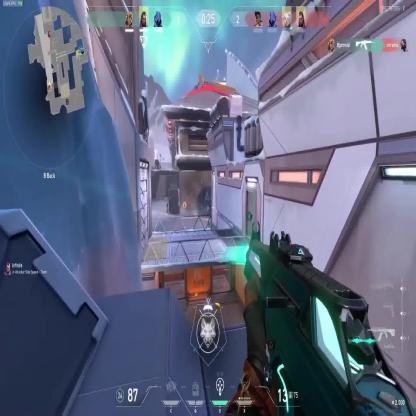enemy: (208, 204, 210, 215)
enemy_head: (208, 204, 210, 207)
